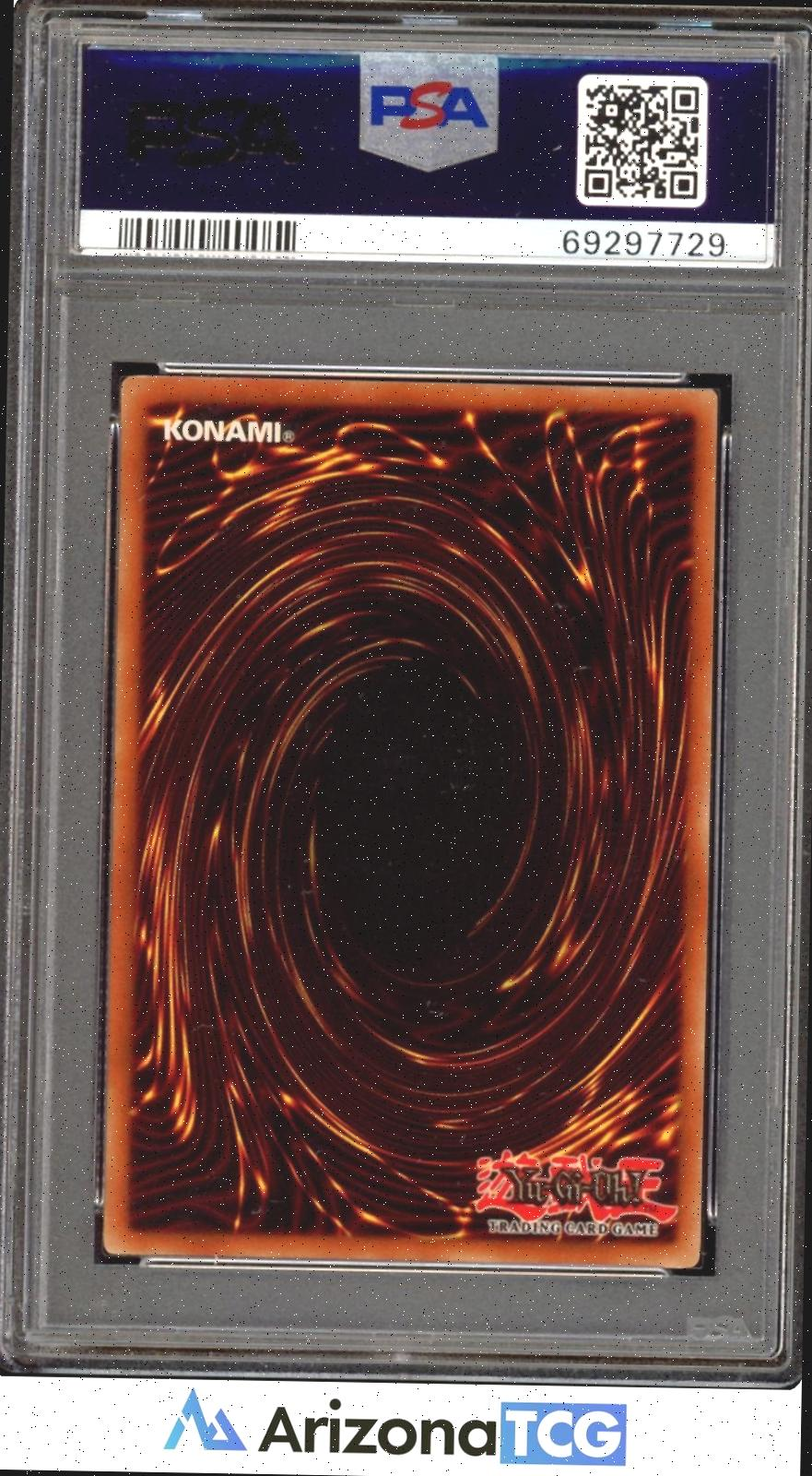card-2UtV: (102, 374, 718, 1268)
